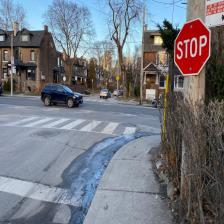Stop-sign: (173, 17, 213, 77)
